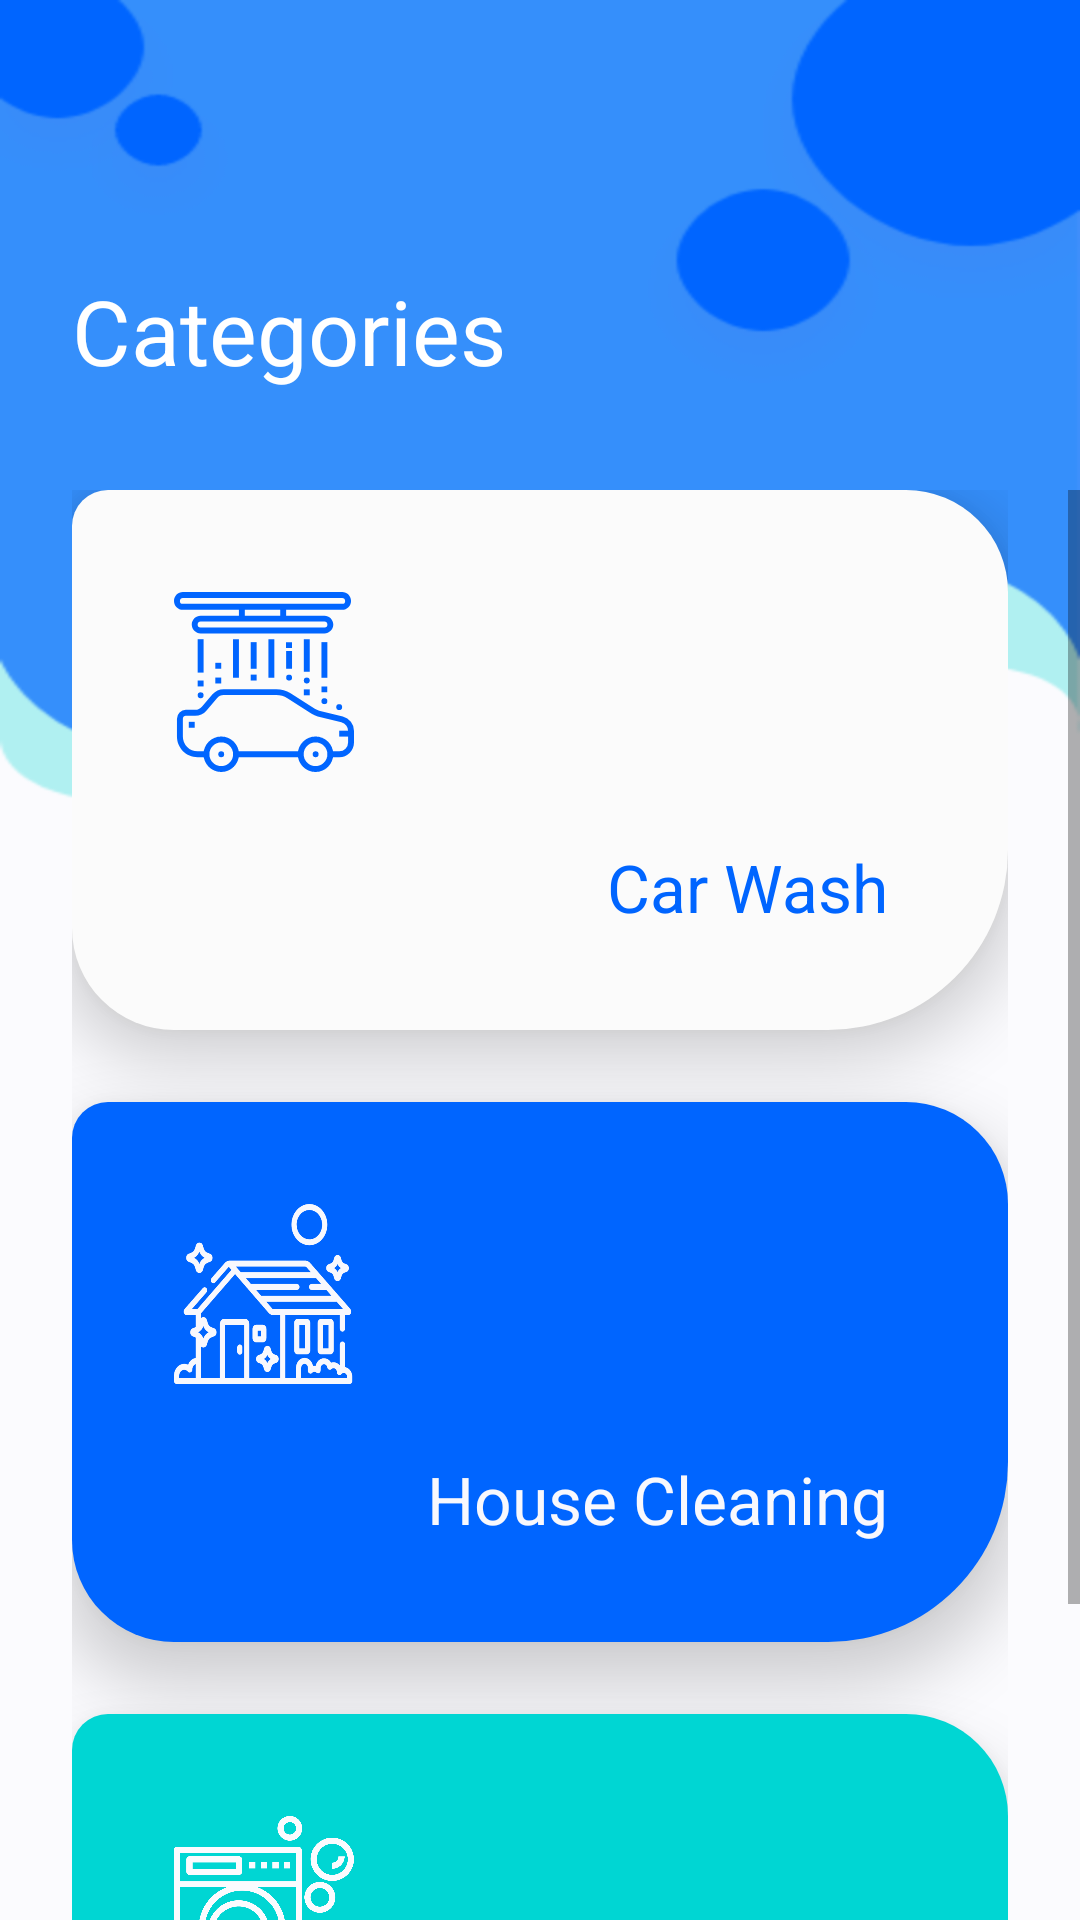

Point at icon controls on the screen. Image size 1080 x 1920, points as (x,y).
noun car wash: (264,682)
